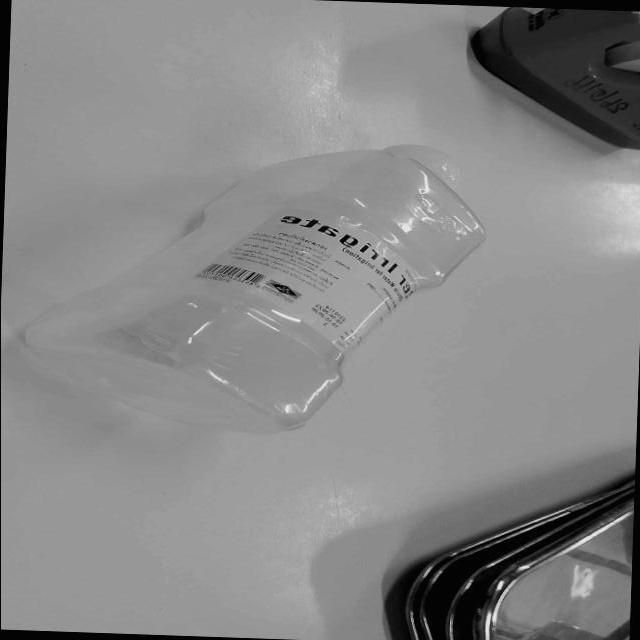General: (4, 2, 638, 637)
Infectious: (22, 143, 488, 435)
Sharps: (401, 476, 636, 639), (470, 6, 640, 151)
